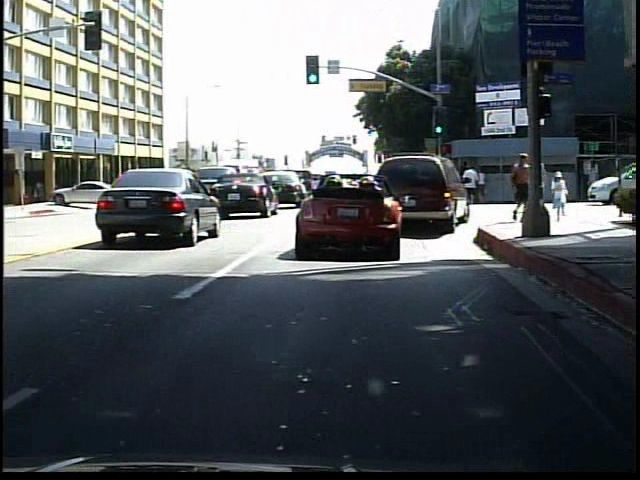person: (504, 149, 533, 225), (547, 171, 572, 223), (123, 172, 141, 205)
